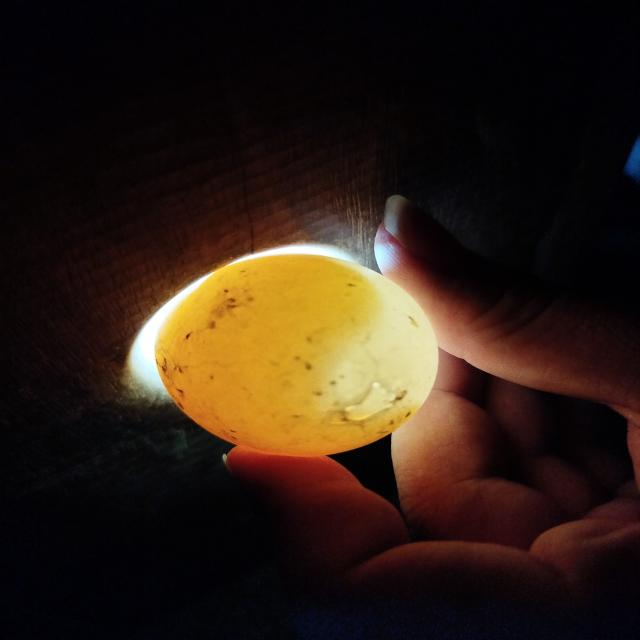Rachadura: (345, 383, 398, 420), (154, 348, 177, 389)
